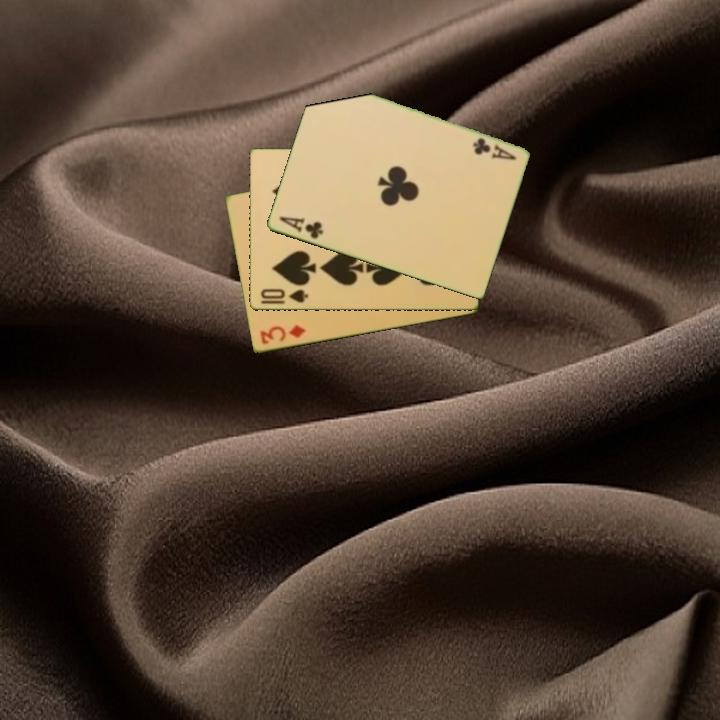10s: (257, 286, 310, 306)
3d: (256, 322, 308, 347)
Ac: (275, 213, 325, 242), (469, 135, 519, 163)
